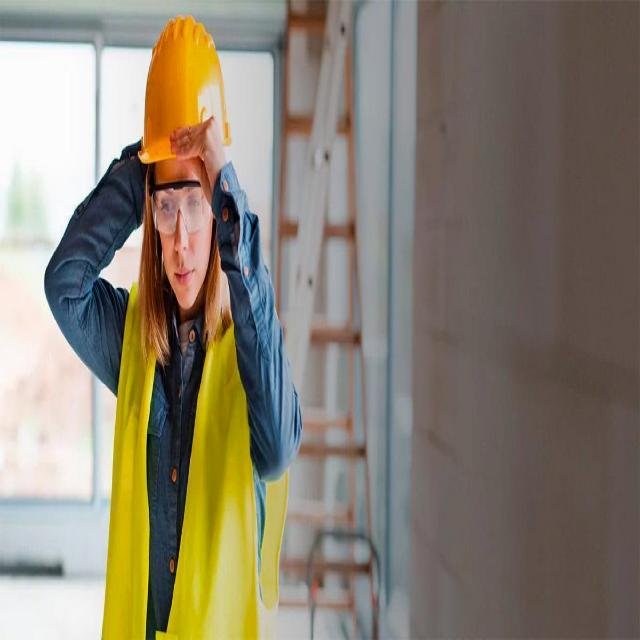face_nomask: (154, 160, 207, 298)
glasses: (148, 174, 218, 239)
hand_noglove: (166, 109, 229, 173)
head_helmet: (136, 10, 231, 169)
person: (96, 20, 291, 640)
vest: (68, 289, 282, 640)
